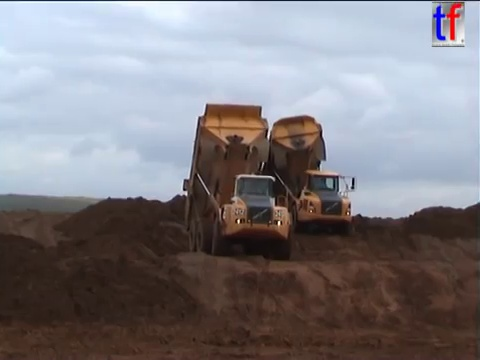truck: (179, 100, 299, 262), (255, 113, 358, 236)
